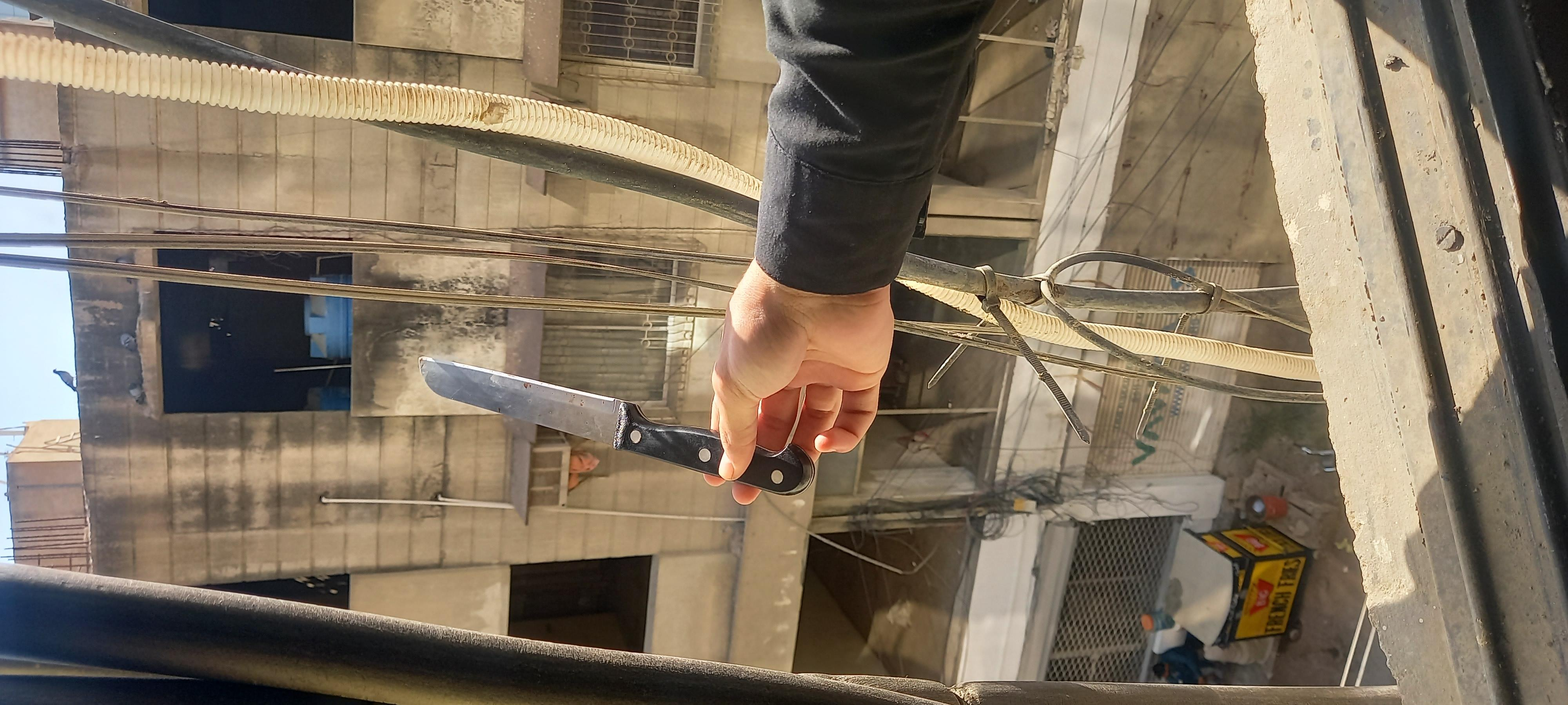knives: (454, 179, 783, 373)
